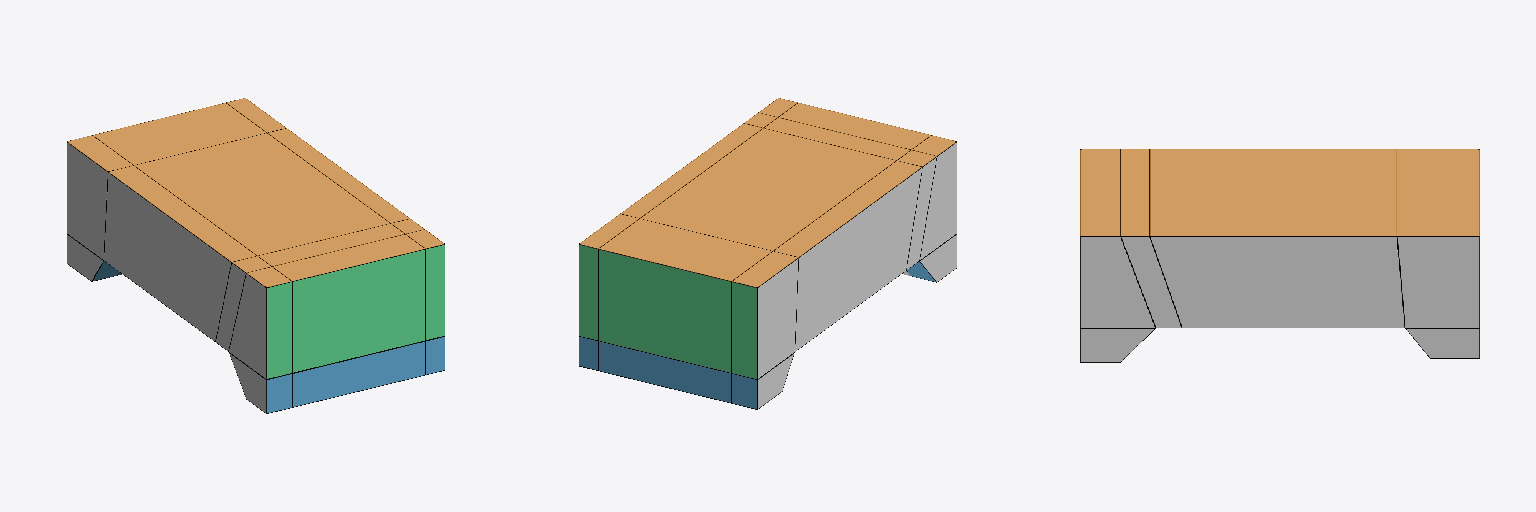
3 renders of one model, left to right at view 1: azimuth 30°, elevation 25°; view 2: azimuth 150°, elevation 25°; view 3: azimuth 270°, elevation 25°, orthographic.
Visible parts, largest first — view 1: Cube; view 2: Cube; view 3: Cube.
Boxes of the visible parts, x1=… form: Cube: x1=67, y1=98, x2=444, y2=413; Cube: x1=579, y1=98, x2=956, y2=409; Cube: x1=1080, y1=149, x2=1479, y2=362.
Size of the model in its own units: 2 by 1.35 by 3.87.
1 materials, 1 textured.